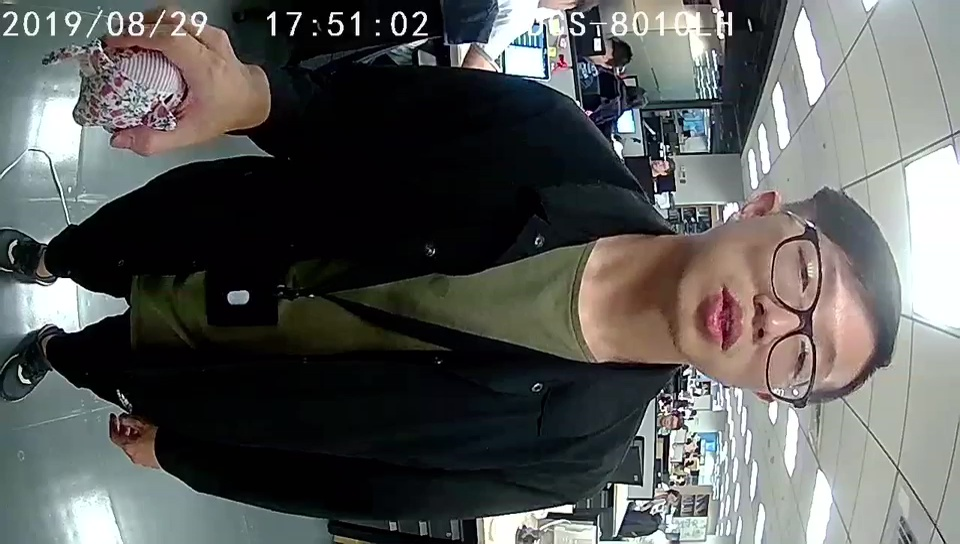pig: (69, 43, 190, 136)
